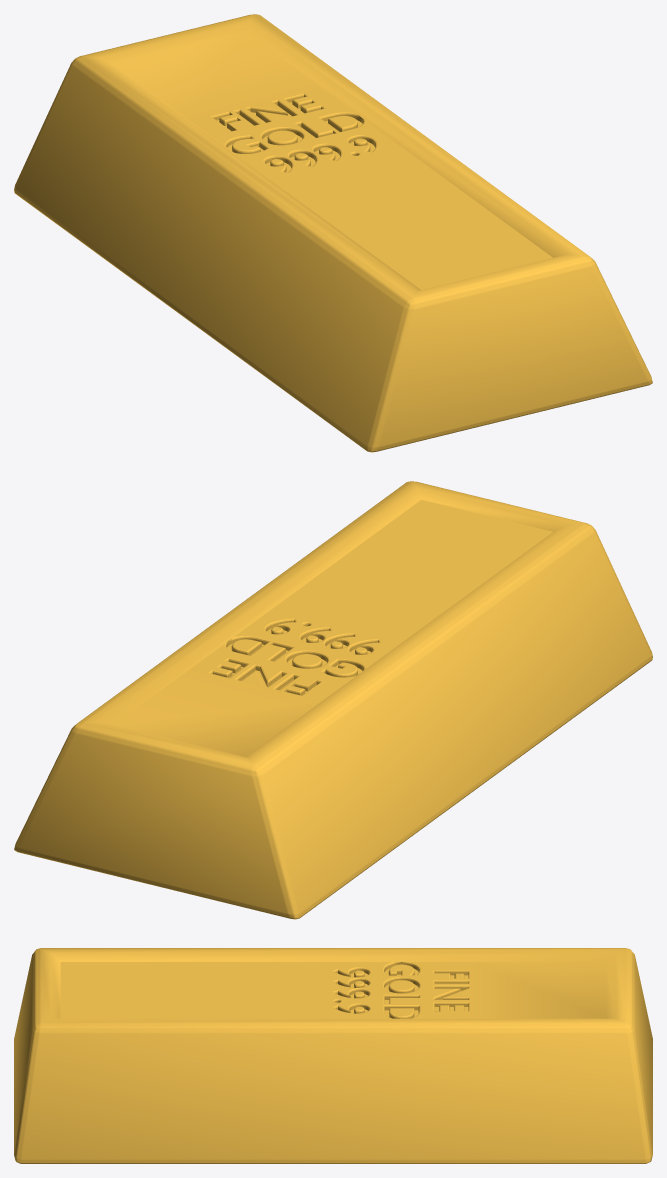
File: Gold Bar.fbx
3 renders of one model, top to bottom at view 1: azimuth 30°, elevation 25°; view 2: azimuth 150°, elevation 25°; view 3: azimuth 270°, elevation 25°, orthographic. The views are drawn at different scales.
Parts seen in each view (by area): view 1: Gold Bar; view 2: Gold Bar; view 3: Gold Bar.
Part boxes in pixels (<box>): Gold Bar: <box>14,14,652,452</box>; Gold Bar: <box>14,481,652,919</box>; Gold Bar: <box>14,948,652,1163</box>.
Size of the model in its own units: 591 by 264 by 1295.
